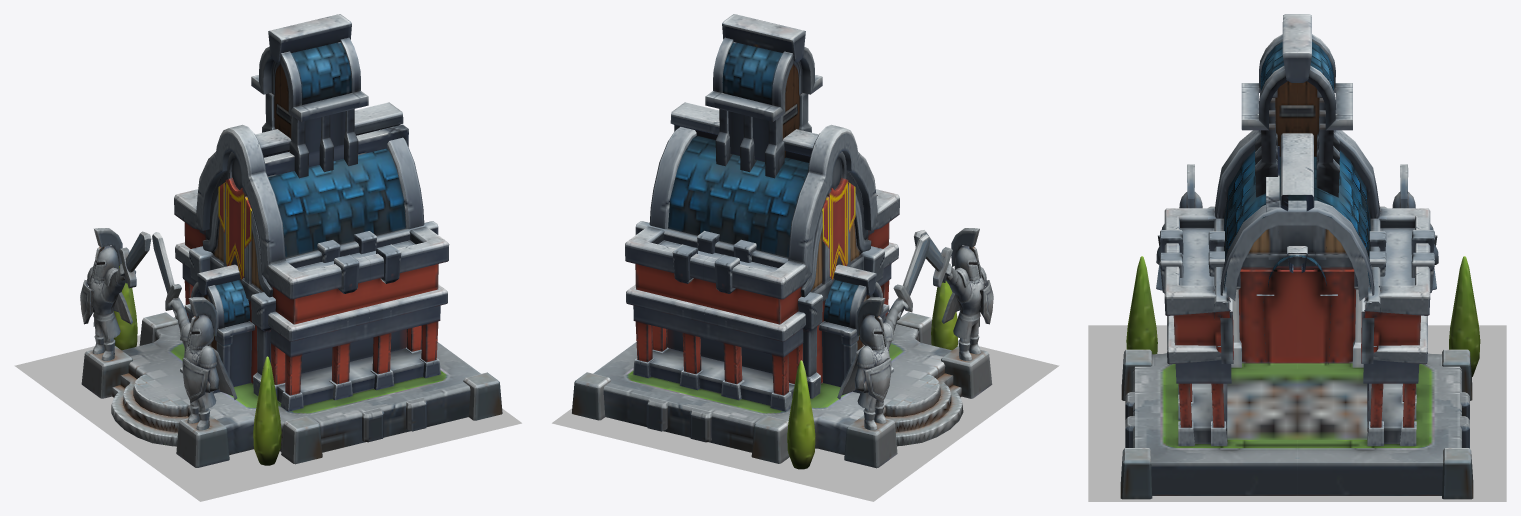
Rendered from C_Academy_LV2.fbx.
The picture shows the model from 3 angles, left to right: view 1: azimuth 30°, elevation 25°; view 2: azimuth 150°, elevation 25°; view 3: azimuth 270°, elevation 25°; orthographic projection. The views are drawn at different scales.
Parts seen in each view (by area): view 1: C_Academy_LV2_0_mesh, C_Academy_LV2_1_mesh; view 2: C_Academy_LV2_0_mesh, C_Academy_LV2_1_mesh; view 3: C_Academy_LV2_0_mesh, C_Academy_LV2_1_mesh.
Part boxes in pixels (box(x1,y1,x2,y2)): C_Academy_LV2_0_mesh: box(80, 14, 502, 467); C_Academy_LV2_1_mesh: box(14, 335, 521, 501); C_Academy_LV2_0_mesh: box(572, 14, 993, 469); C_Academy_LV2_1_mesh: box(552, 341, 1059, 501); C_Academy_LV2_0_mesh: box(1120, 14, 1480, 499); C_Academy_LV2_1_mesh: box(1088, 325, 1506, 501).
Size of the model in its own units: 120 by 128 by 120.
